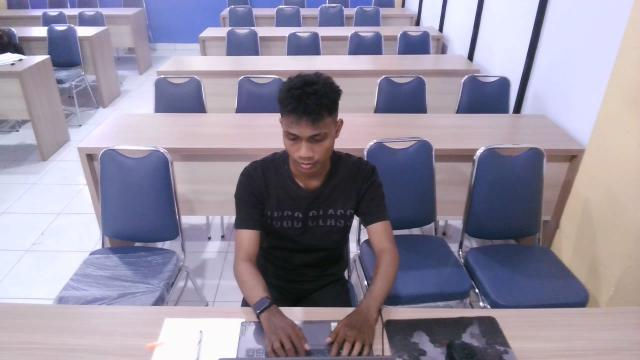Normal_Focus: (225, 65, 414, 360)
